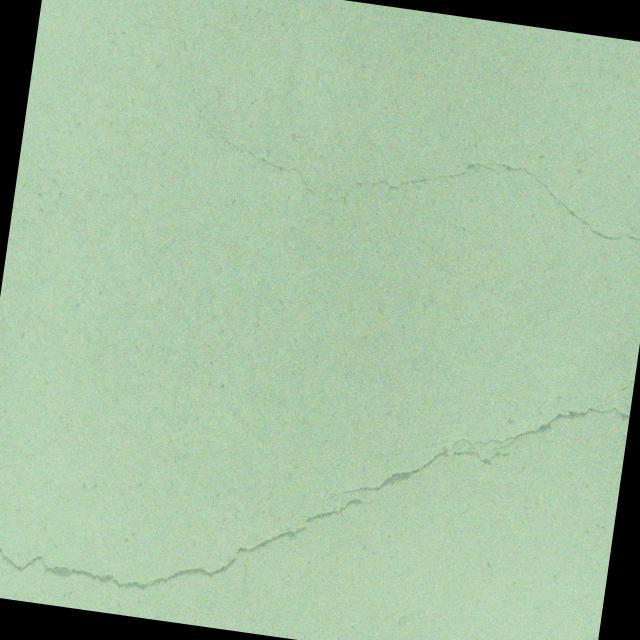crack: (0, 446, 372, 623), (193, 117, 640, 250), (343, 337, 635, 532), (65, 0, 206, 77)
